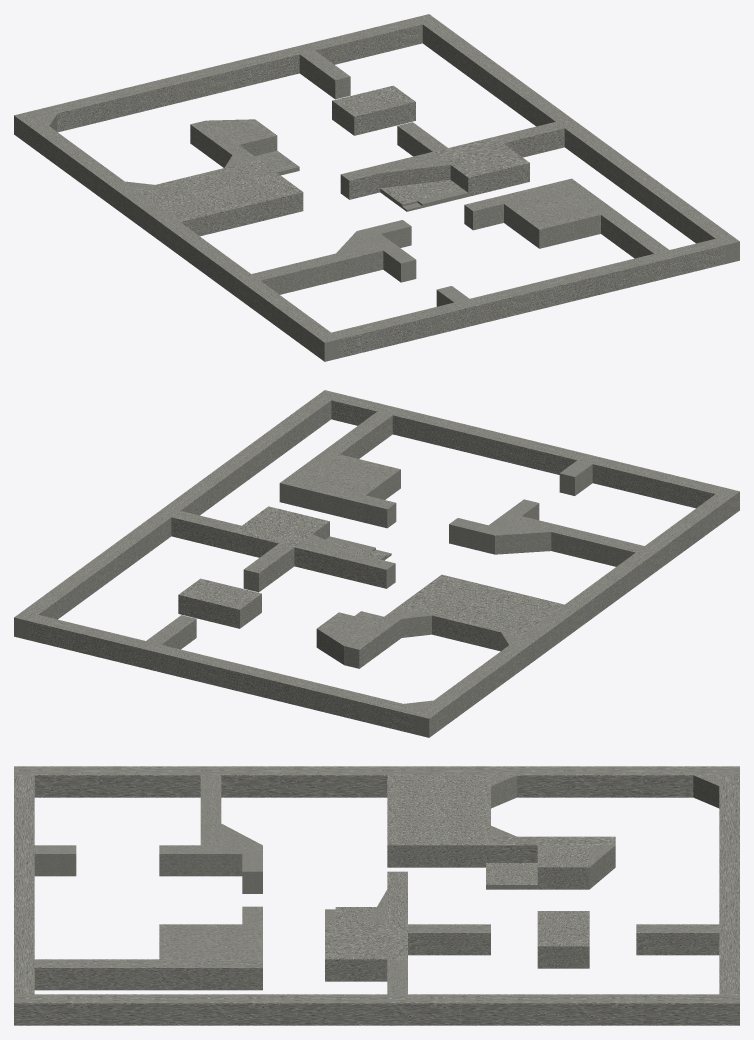
The model's file is UVdMap4Top.obj.
3 views of the same model, one above another, from view 1: azimuth 30°, elevation 25°; view 2: azimuth 150°, elevation 25°; view 3: azimuth 270°, elevation 25° (orthographic). The views are drawn at different scales.
Parts seen in each view (by area): view 1: MAPforUOGPCGF.001; view 2: MAPforUOGPCGF.001; view 3: MAPforUOGPCGF.001.
Part boxes in pixels (<box>): MAPforUOGPCGF.001: <box>14,14,739,361</box>; MAPforUOGPCGF.001: <box>14,390,739,737</box>; MAPforUOGPCGF.001: <box>14,766,739,1025</box>.
Bounding box in the file's own units: 108 × 4.75 × 140.
Materials: 1 (1 with a texture image).
